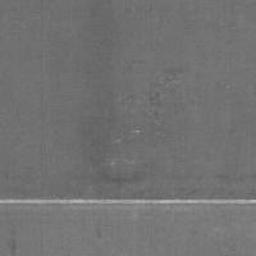Welding line: (0, 197, 256, 206)
